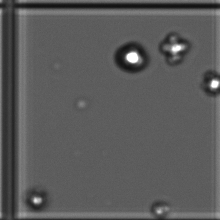Living Cell: (112, 40, 150, 75), (157, 33, 195, 68), (146, 195, 172, 218), (23, 187, 49, 210), (199, 68, 220, 96)
